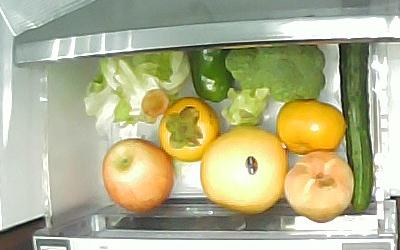apple: (101, 137, 173, 213)
broccoli: (221, 44, 325, 126)
cucumber: (335, 41, 373, 216)
grapefruit: (200, 127, 289, 214)
lettuce: (84, 48, 190, 135)
paprika: (184, 47, 234, 103)
peach: (284, 151, 355, 223)
persimmon: (158, 97, 220, 162), (275, 100, 346, 155)
